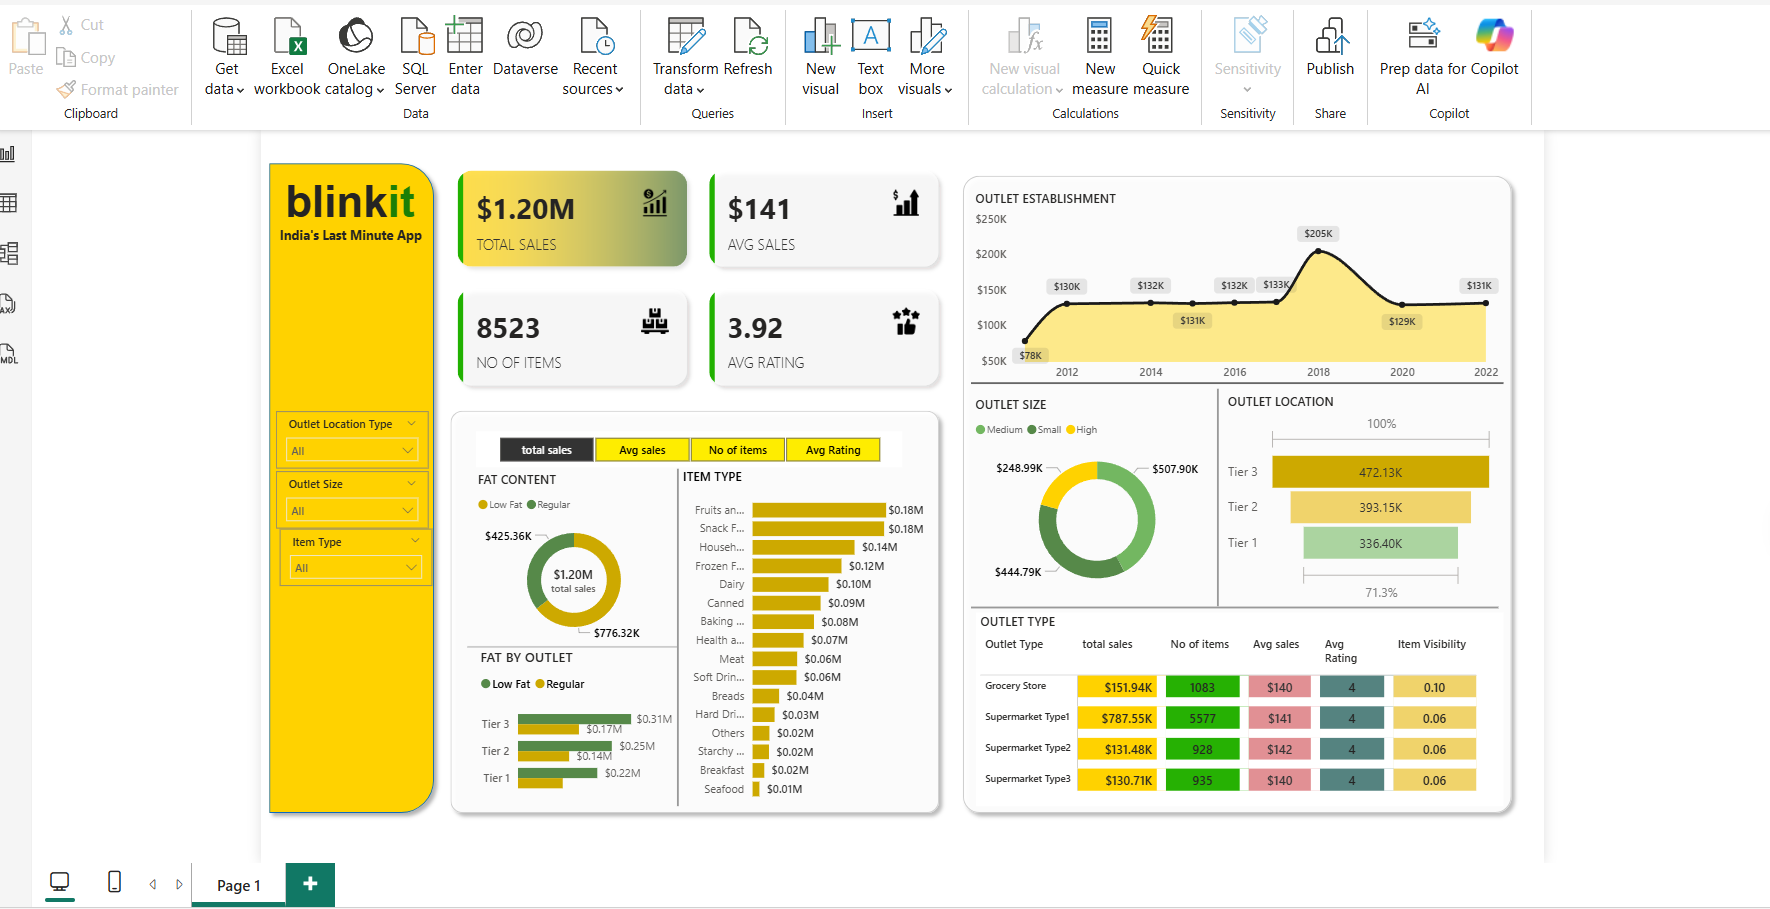

This screenshot's page, from the dashboard's own definition file:
{"tool":"powerbi","page":{"name":"Page 1","canvas":[1400,800],"ordinal":0},"visuals":[{"type":"shape","box":[0,27.3,197.7,726.7],"z":0},{"type":"textbox","box":[21,46.5,153.1,72],"z":1000},{"type":"textbox","box":[10.5,99.1,174.1,37.5],"z":2000},{"type":"cardVisual","fields":{"Data":["BlinkIT Grocery Data.total sales","BlinkIT Grocery Data.Avg sales","BlinkIT Grocery Data.No of items","BlinkIT Grocery Data.Avg Rating"]},"box":[197.7,27.3,559,269.9],"z":3000},{"type":"shape","box":[197.7,297.2,550.8,456.7],"z":4000},{"type":"donutChart","title":"FAT CONTENT","fields":{"Y":["BlinkIT Grocery Data.total sales"],"Category":["BlinkIT Grocery Data.Item Fat Content"]},"box":[231.8,372.2,219.5,192.2],"z":5000},{"type":"slicer","fields":{"Values":["Metrics.Metrics"]},"box":[234.5,328.6,464.9,39.5],"z":6000},{"type":"cardVisual","fields":{"Data":["BlinkIT Grocery Data.total sales","BlinkIT Grocery Data.total sales"]},"box":[298.6,458.1,84.5,57.3],"z":7000},{"type":"clusteredBarChart","title":"FAT BY OUTLET","fields":{"Y":["BlinkIT Grocery Data.total sales"],"Category":["BlinkIT Grocery Data.Outlet Location Type"],"Series":["BlinkIT Grocery Data.Item Fat Content"]},"box":[234.5,564.4,219.5,171.8],"z":8000},{"type":"shape","box":[225,557.6,229,12.3],"z":9000},{"type":"shape","box":[436.3,369.5,36.8,368.1],"z":10000},{"type":"barChart","title":"ITEM TYPE","fields":{"Y":["BlinkIT Grocery Data.total sales"],"Category":["BlinkIT Grocery Data.Item Type"]},"box":[455.4,368.1,272.7,372.2],"z":11000},{"type":"shape","box":[756.7,40.9,616.2,713],"z":12000},{"type":"lineChart","title":"OUTLET ESTABLISHMENT","fields":{"Category":["BlinkIT Grocery Data.Outlet Establishment Year"],"Y":["BlinkIT Grocery Data.total sales"]},"box":[774.4,65.4,580.8,216.8],"z":13000},{"type":"shape","box":[774.4,269.9,580.8,12.3],"z":14000},{"type":"donutChart","title":"OUTLET SIZE","fields":{"Category":["BlinkIT Grocery Data.Outlet Size"],"Y":["BlinkIT Grocery Data.total sales"]},"box":[774.4,290.4,275.4,225],"z":15000},{"type":"shape","box":[1037.5,282.2,12.3,237.2],"z":16000},{"type":"funnel","title":"OUTLET LOCATION","fields":{"Y":["Sum(BlinkIT Grocery Data.Sales)"],"Category":["BlinkIT Grocery Data.Outlet Location Type"]},"box":[1049.8,286.3,299.9,233.1],"z":17000},{"type":"shape","box":[774.4,505.8,575.3,30],"z":18000},{"type":"pivotTable","title":"OUTLET TYPE","fields":{"Rows":["BlinkIT Grocery Data.Outlet Type"],"Values":["BlinkIT Grocery Data.total sales","BlinkIT Grocery Data.No of items","BlinkIT Grocery Data.Avg sales","BlinkIT Grocery Data.Avg Rating","Avg(BlinkIT Grocery Data.Item Visibility)"]},"box":[779.8,526.2,575.3,211.3],"z":19000},{"type":"slicer","fields":{"Values":["BlinkIT Grocery Data.Outlet Location Type"]},"box":[16.4,306.8,166.3,62.7],"z":20000},{"type":"slicer","fields":{"Values":["BlinkIT Grocery Data.Outlet Size"]},"box":[16.4,372.2,166.3,62.7],"z":21000},{"type":"slicer","fields":{"Values":["BlinkIT Grocery Data.Item Type"]},"box":[20.5,434.9,166.3,62.7],"z":22000}]}

Visuals, with their boxes on the page's 1400x800 design canvas (x1, y1, x2, y2). These are canvas units, not pixel positions in the 1770x909 screenshot, which may show the page scaled, cropped or inside an application window:
shape: 0:27:198:754
textbox: 21:46:174:118
textbox: 10:99:185:137
cardVisual - BlinkIT Grocery Data.total sales x BlinkIT Grocery Data.Avg sales: 198:27:757:297
shape: 198:297:748:754
"FAT CONTENT" donutChart: 232:372:451:564
slicer - Metrics.Metrics: 234:329:699:368
cardVisual - BlinkIT Grocery Data.total sales x BlinkIT Grocery Data.total sales: 299:458:383:515
"FAT BY OUTLET" clusteredBarChart: 234:564:454:736
shape: 225:558:454:570
shape: 436:370:473:738
"ITEM TYPE" barChart: 455:368:728:740
shape: 757:41:1373:754
"OUTLET ESTABLISHMENT" lineChart: 774:65:1355:282
shape: 774:270:1355:282
"OUTLET SIZE" donutChart: 774:290:1050:515
shape: 1038:282:1050:519
"OUTLET LOCATION" funnel: 1050:286:1350:519
shape: 774:506:1350:536
"OUTLET TYPE" pivotTable: 780:526:1355:738
slicer - BlinkIT Grocery Data.Outlet Location Type: 16:307:183:370
slicer - BlinkIT Grocery Data.Outlet Size: 16:372:183:435
slicer - BlinkIT Grocery Data.Item Type: 20:435:187:498
